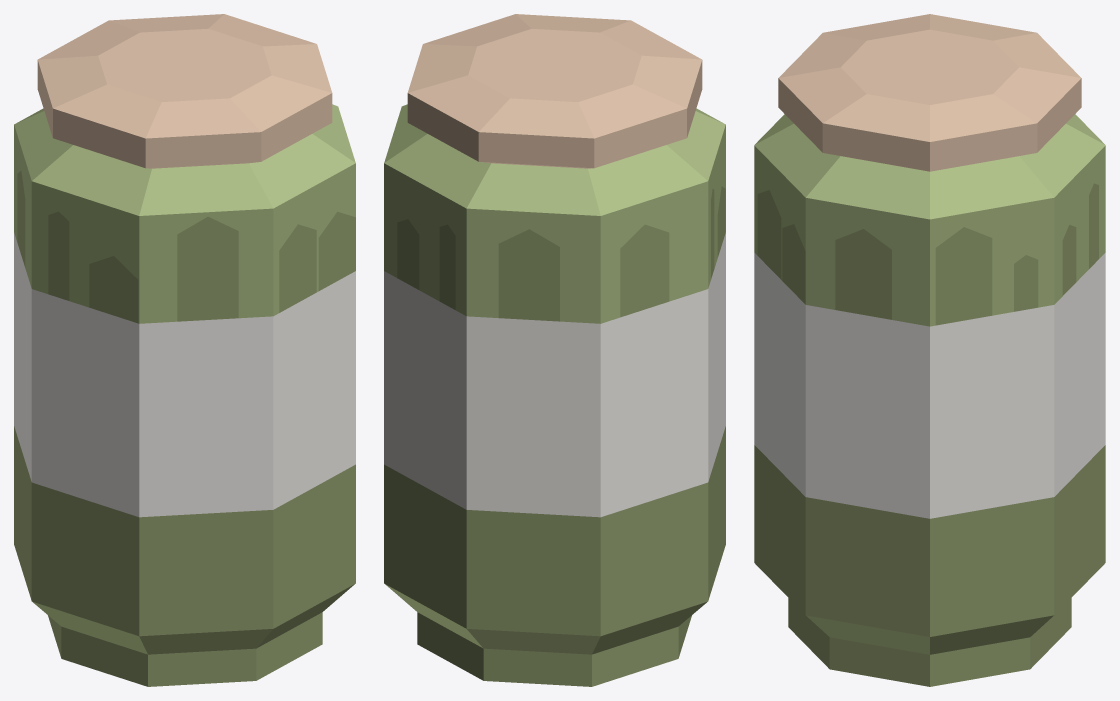
Rendered from Pickles.fbx.
3 renders of one model, left to right at view 1: azimuth 30°, elevation 25°; view 2: azimuth 150°, elevation 25°; view 3: azimuth 270°, elevation 25°, orthographic.
Parts seen in each view (by area): view 1: Pickles; view 2: Pickles; view 3: Pickles.
Part boxes in pixels (<box>): Pickles: <box>14,14,355,686</box>; Pickles: <box>384,14,725,686</box>; Pickles: <box>754,14,1105,686</box>.
Bounding box in the file's own units: 0.0992 × 0.1742 × 0.0992.
